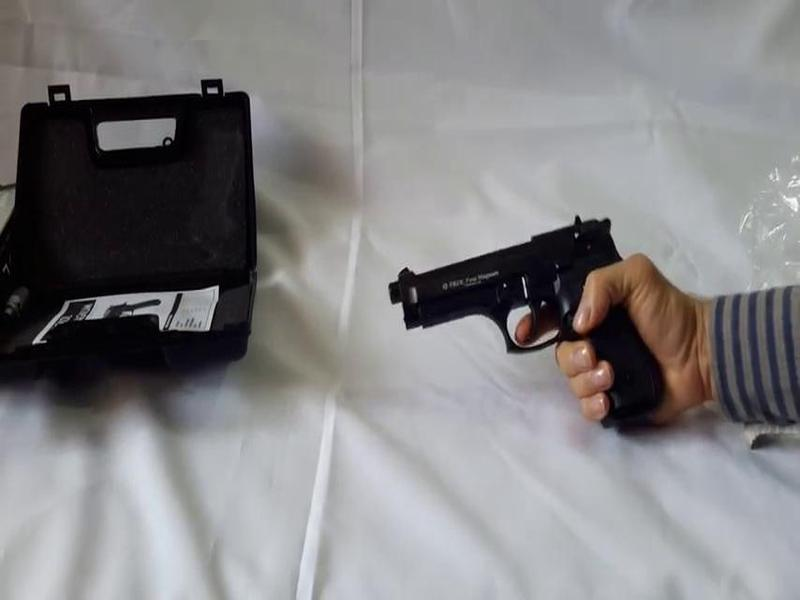Pistola: (359, 198, 720, 468)
